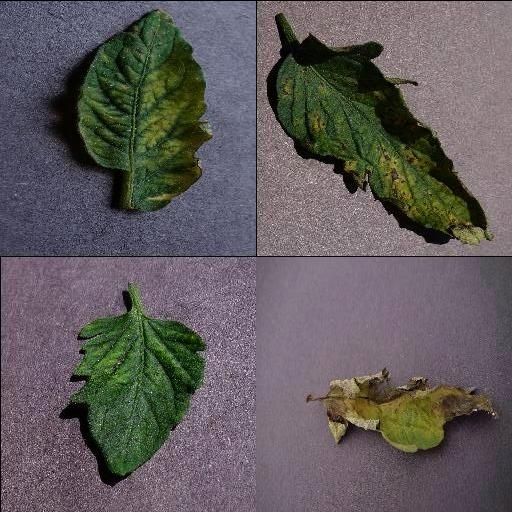Late Blight: (325, 367, 499, 453)
Mosaic Virus: (74, 6, 214, 212), (69, 311, 207, 477)
Septoria: (274, 35, 492, 244)
